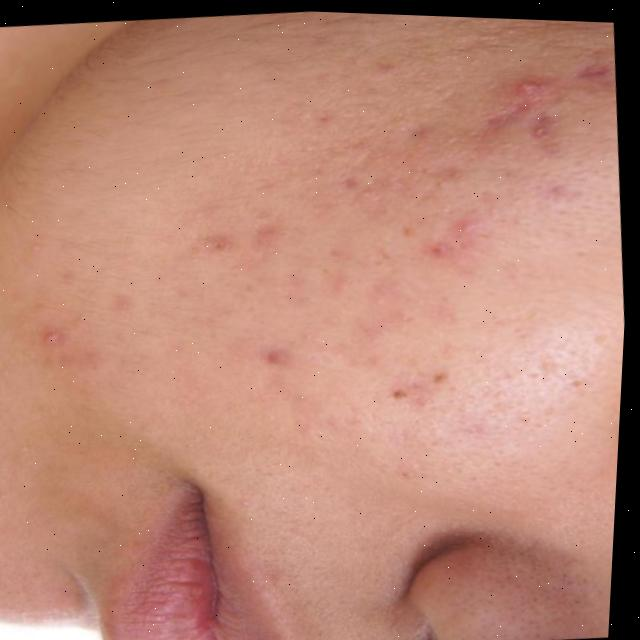Acne: (9, 14, 639, 455)
